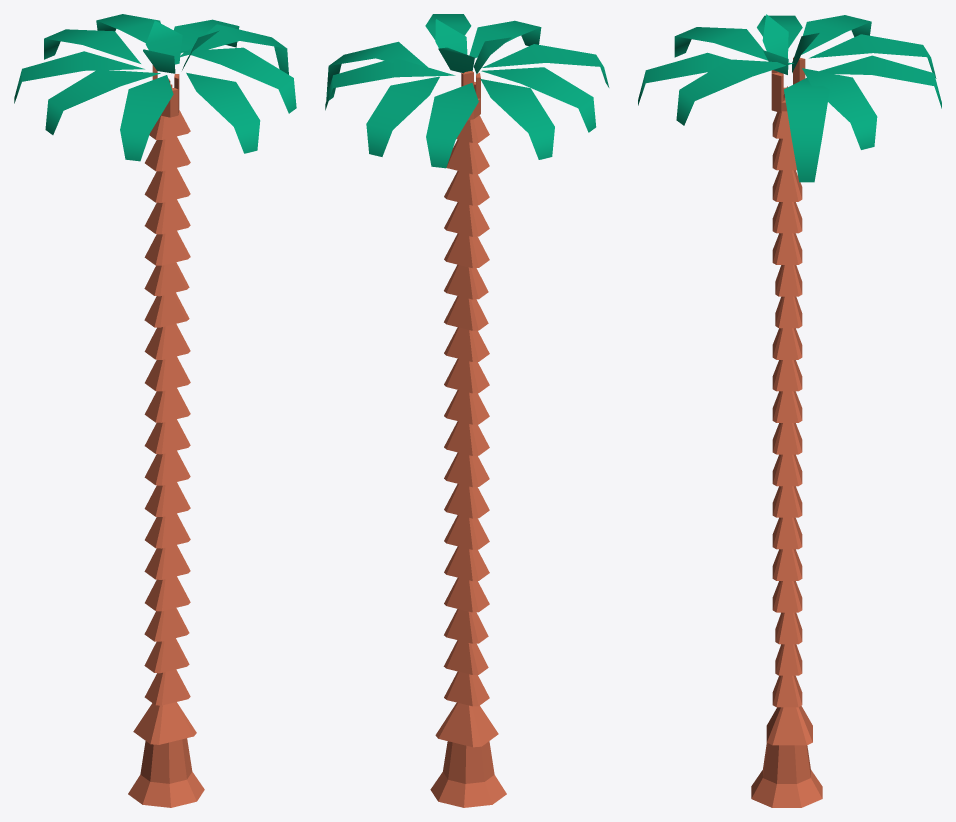
File: PalmC.fbx
3 views of the same model, side by side, from view 1: azimuth 30°, elevation 25°; view 2: azimuth 150°, elevation 25°; view 3: azimuth 270°, elevation 25° (orthographic).
Parts seen in each view (by area): view 1: pyramid_bevel (×20), plant_largeLeaf (×9), trunk_base, plant_small; view 2: pyramid_bevel (×20), plant_largeLeaf (×9), trunk_base, plant_small; view 3: pyramid_bevel (×19), plant_largeLeaf (×9), trunk_base, plant_small, trunk_topBroken.
Part boxes in pixels (left/top/right/bottom): pyramid_bevel (×20): left=133, top=110, right=196, bottom=744; plant_largeLeaf (×9): left=14, top=14, right=296, bottom=161; trunk_base: left=128, top=738, right=204, bottom=807; plant_small: left=143, top=20, right=219, bottom=73; pyramid_bevel (×20): left=435, top=115, right=498, bottom=747; plant_largeLeaf (×9): left=325, top=14, right=609, bottom=168; trunk_base: left=430, top=741, right=506, bottom=807; plant_small: left=435, top=19, right=511, bottom=74; pyramid_bevel (×19): left=766, top=138, right=812, bottom=745; plant_largeLeaf (×9): left=638, top=15, right=941, bottom=182; trunk_base: left=751, top=743, right=822, bottom=807; plant_small: left=762, top=14, right=819, bottom=74; trunk_topBroken: left=771, top=57, right=805, bottom=112.
Size of the model in its own units: 24.99 by 72.4 by 26.14.
